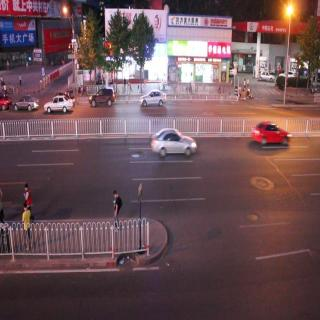Car: (150, 127, 197, 163), (253, 118, 291, 150), (138, 88, 168, 109), (44, 94, 74, 114), (89, 88, 116, 108), (14, 93, 39, 112), (258, 68, 275, 84)
